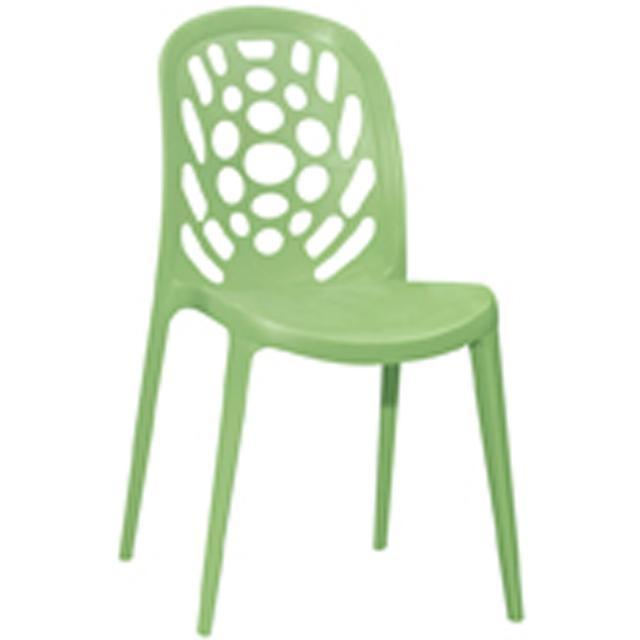chair: (117, 4, 528, 636)
